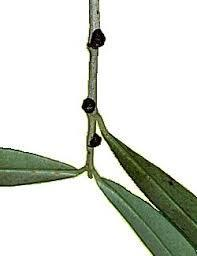BlackScale: (82, 26, 110, 56), (80, 96, 100, 118), (84, 132, 104, 150)
